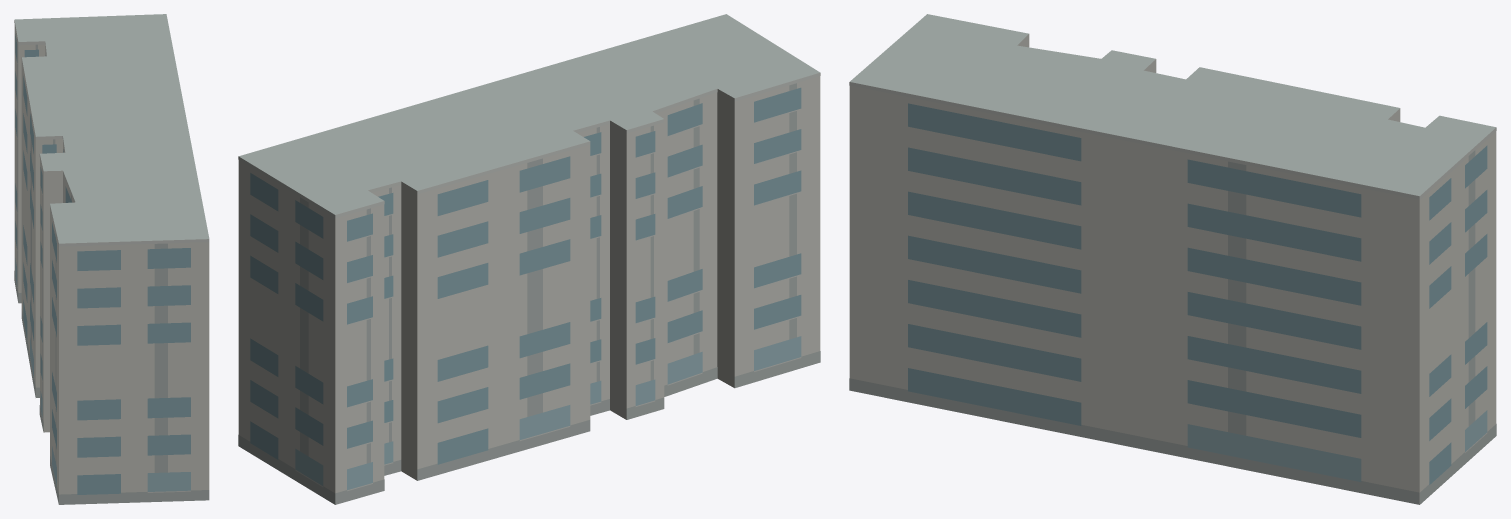
The model's file is survey-upis-32964076.glb.
3 renders of one model, left to right at view 1: azimuth 30°, elevation 25°; view 2: azimuth 150°, elevation 25°; view 3: azimuth 270°, elevation 25°, orthographic. The views are drawn at different scales.
Visible parts, largest first — view 1: survey-upis-32964076.tmp; view 2: survey-upis-32964076.tmp; view 3: survey-upis-32964076.tmp.
Part boxes in pixels (bbox=[...]): survey-upis-32964076.tmp: bbox=[14, 14, 209, 504]; survey-upis-32964076.tmp: bbox=[238, 14, 820, 504]; survey-upis-32964076.tmp: bbox=[849, 14, 1496, 504].
Bounding box in the file's own units: 25.45 × 20.1 × 38.18.
